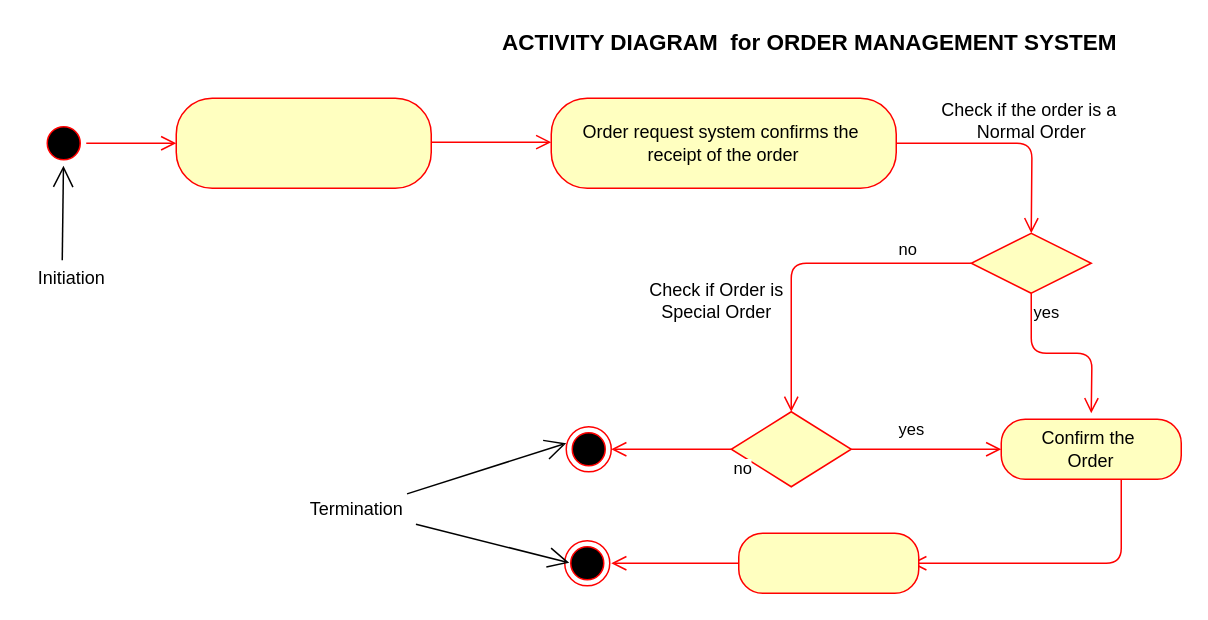
This 1208x620 diagram has some shape labels left out. The box of each missing label's shape, as (x1, y1, x2, y2) in pixels:
Customer sends an Order Request: (175, 97, 431, 188)
Dispatch the Order: (737, 532, 919, 593)
